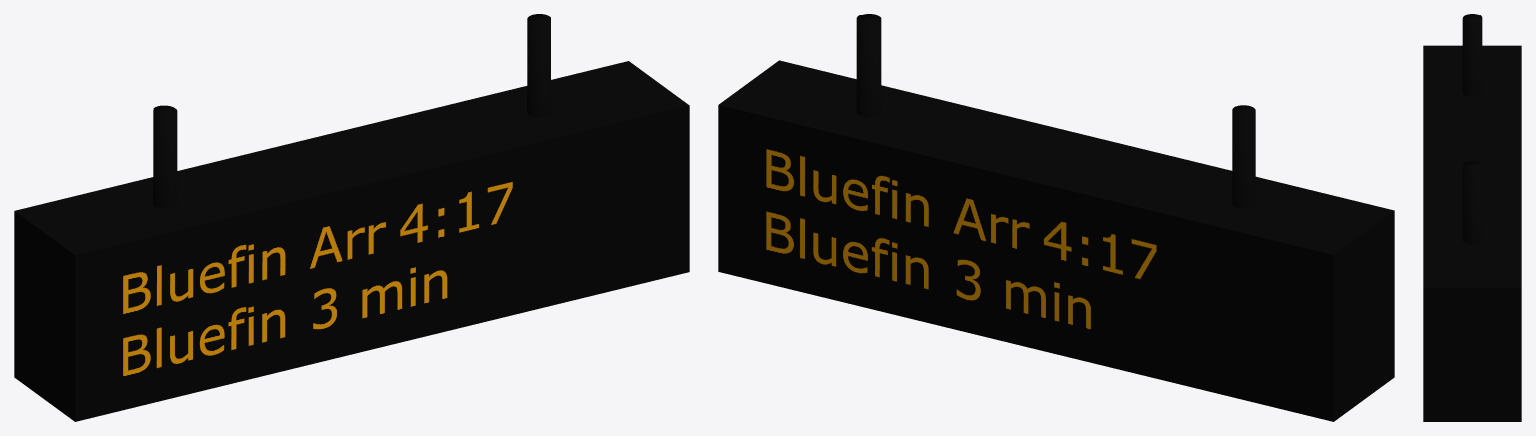
Rendered from ArrivalTimesSign.fbx.
3 views of the same model, side by side, from view 1: azimuth 30°, elevation 25°; view 2: azimuth 150°, elevation 25°; view 3: azimuth 270°, elevation 25° (orthographic). The views are drawn at different scales.
Parts seen in each view (by area): view 1: Cube; view 2: Cube; view 3: Cube.
Part boxes in pixels (<box>): Cube: <box>14,14,689,421</box>; Cube: <box>718,14,1394,421</box>; Cube: <box>1423,14,1521,421</box>.
Bounding box in the file's own units: 428 × 173 × 73.32.
1 material, 1 textured.
